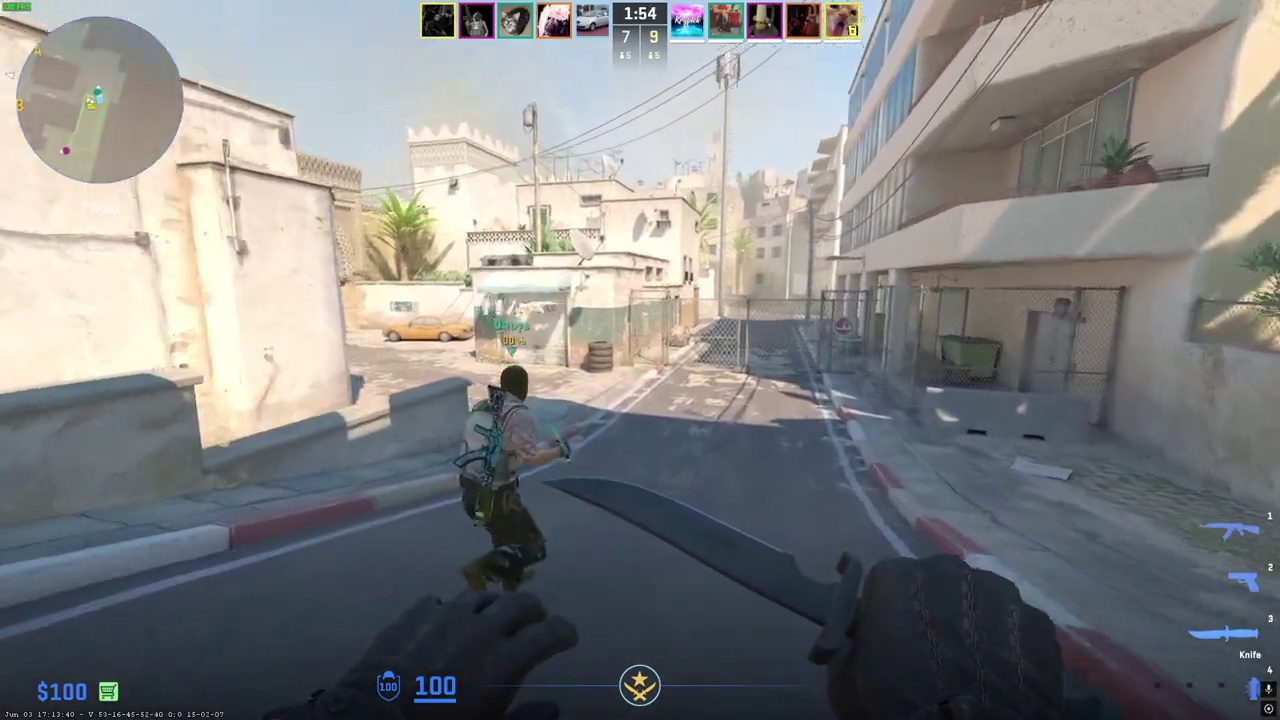Terrorist: (457, 364, 552, 621)
